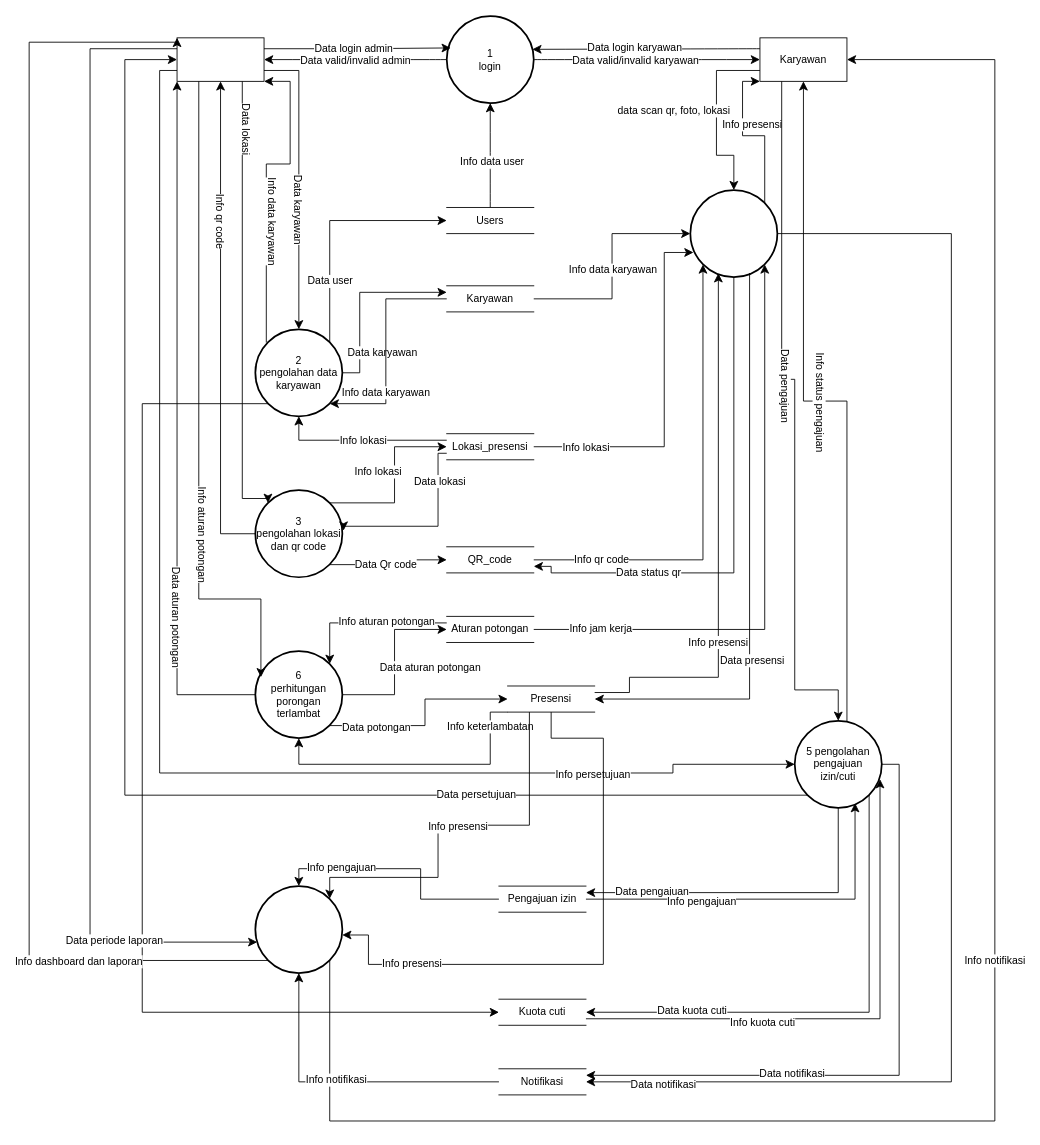
Some shapes in this 1040 by 1145 pixel diagram are drawn without their labels. Each missing label, with the centre of its shape:
4 pengolahan presensi: point 733,233
7 pengolahan data laporan: point 298,929
Admin: point 220,59
